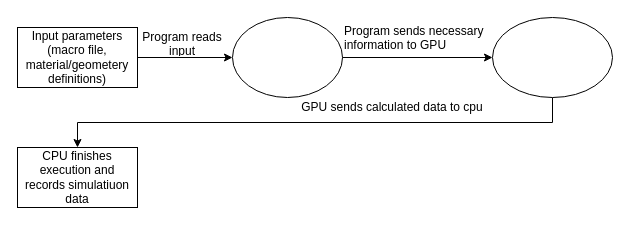
Image size: 630x225. Some labels were removed from this diagram. The shapes that lost their labels are listed below. From the top down, each one's box as (x1, y1, x2, y2) in pixels, then its label:
(232, 16, 342, 98): Program initializes simulation values
(492, 16, 612, 98): GPU performs calculations
